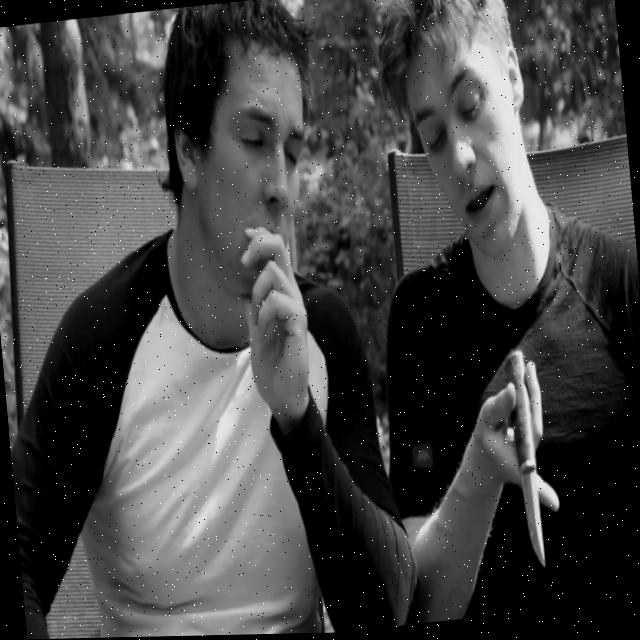knife: (502, 350, 547, 574)
